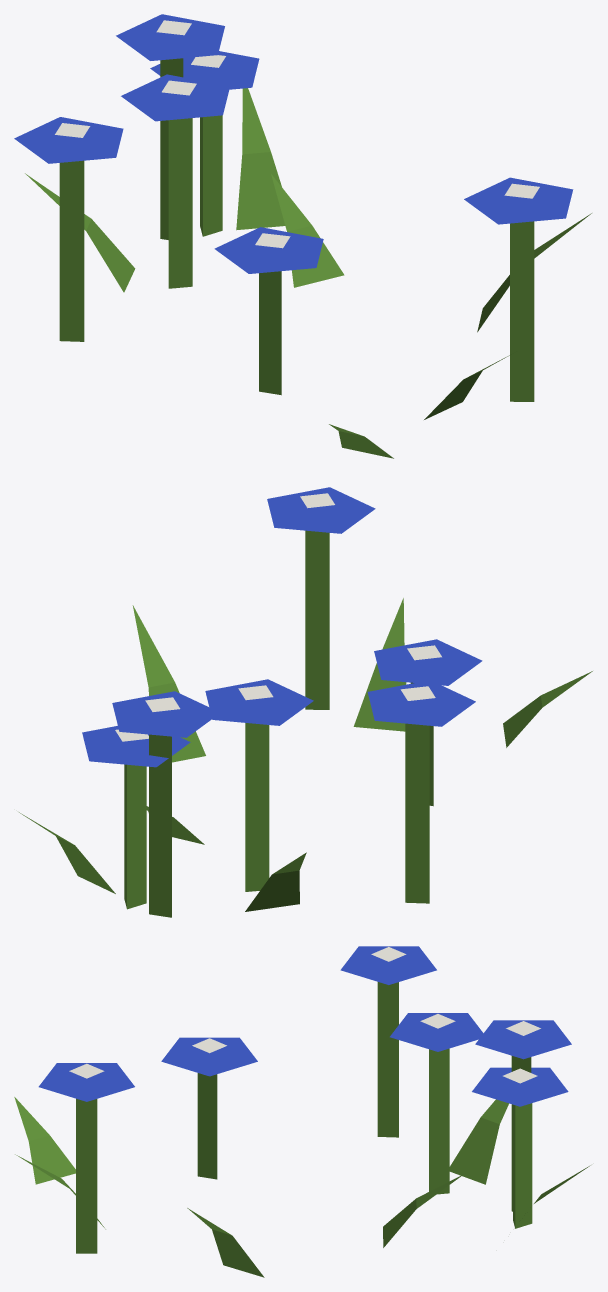
The model's file is gentianes.glb.
The picture shows the model from 3 angles, top to bottom: view 1: azimuth 30°, elevation 25°; view 2: azimuth 150°, elevation 25°; view 3: azimuth 270°, elevation 25°; orthographic projection. The views are drawn at different scales.
Parts seen in each view (by area): view 1: gentianes; view 2: gentianes; view 3: gentianes.
Boxes of the visible parts, x1=… form: gentianes: x1=14, y1=14, x2=591, y2=458; gentianes: x1=19, y1=487, x2=592, y2=917; gentianes: x1=14, y1=946, x2=590, y2=1277.
Bounding box in the file's own units: 0.4372 × 0.1968 × 0.5685.
1 material, 1 textured.
